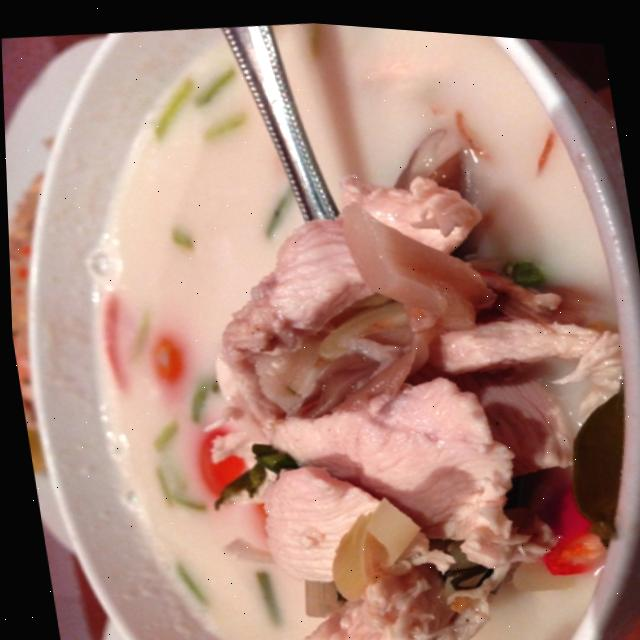汤锅炖物: (11, 1, 640, 640)
